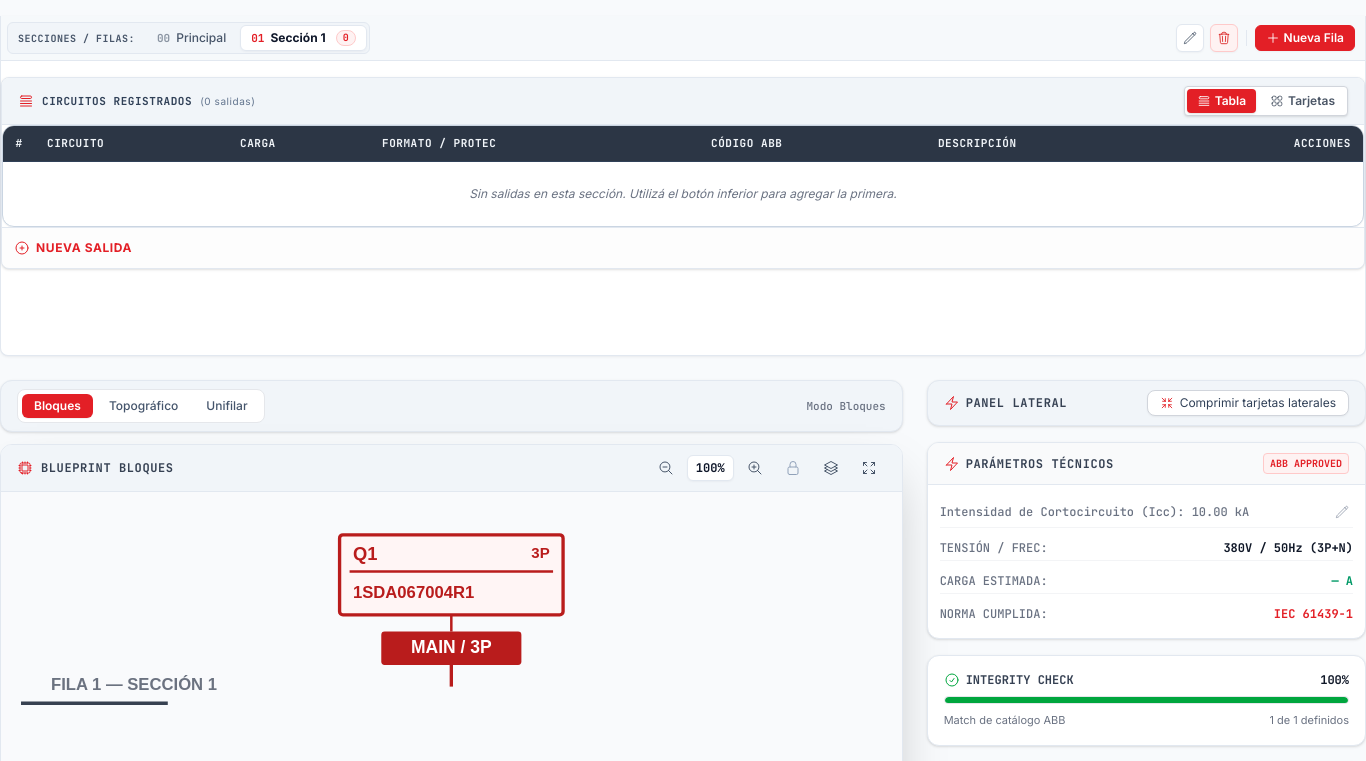
Test case: DetalleTablero › shows the interruptor principal's readable codigo, not the raw id, in the Principal tab
Check: the tab "01 Sección 1 0" is shown, box [240,25,367,51]
Click the tab "00 Principal" at coordinates (192, 38), box [147,26,236,50]
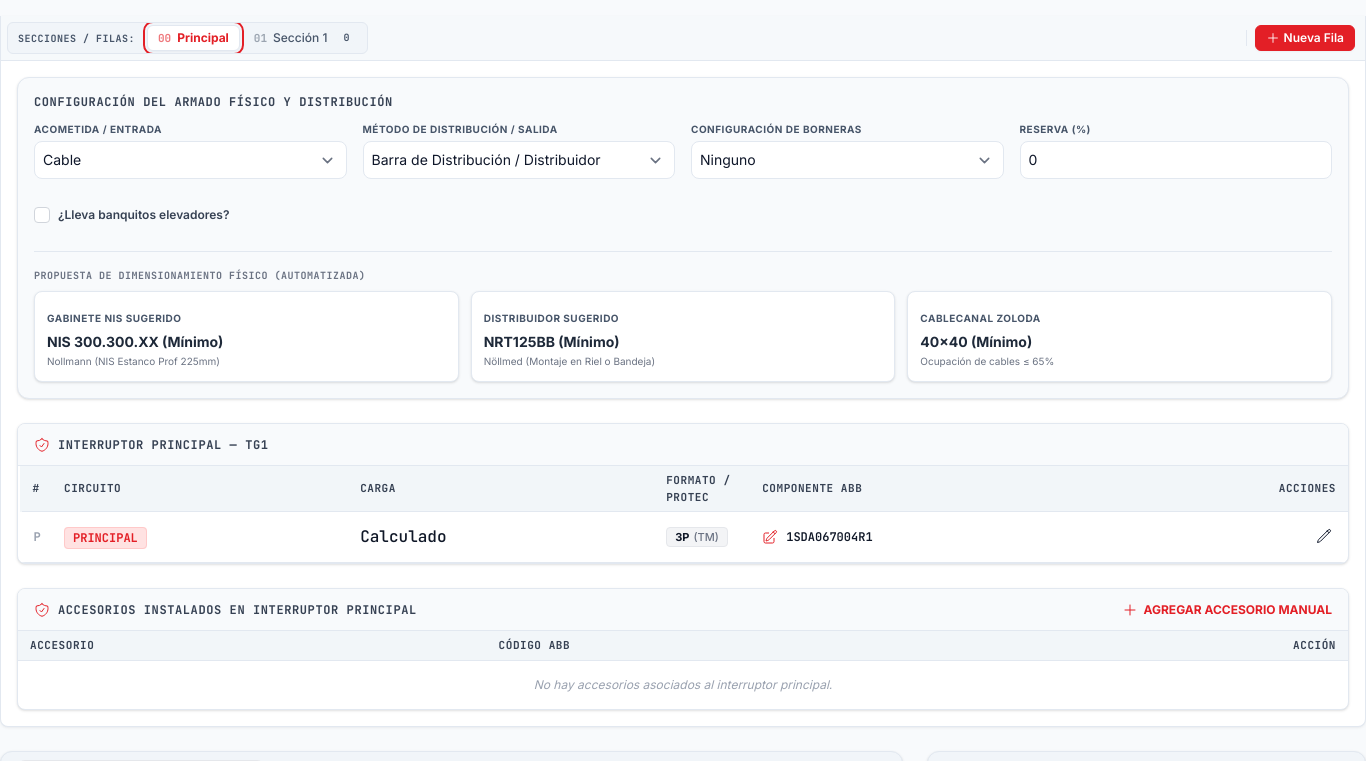
Check: the text "1SDA067004R1" is shown, box [786,529,873,545]
